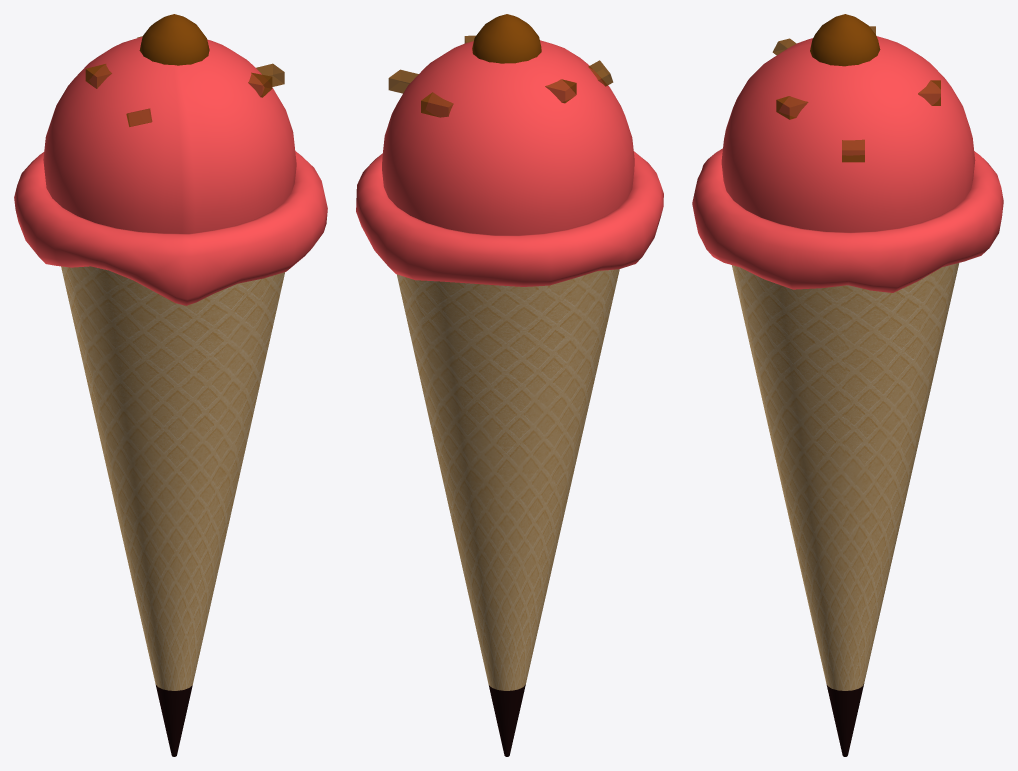
File: 1773580872_cus.glb
3 views of the same model, side by side, from view 1: azimuth 30°, elevation 25°; view 2: azimuth 150°, elevation 25°; view 3: azimuth 270°, elevation 25° (orthographic).
Parts seen in each view (by area): view 1: Sphere001_03 - Default_0, Cone001, Sphere002; view 2: Sphere001_03 - Default_0, Cone001, Sphere002, Box001; view 3: Sphere001_03 - Default_0, Cone001, Sphere002, Box002.
Boxes of the visible parts, x1,y1,x2,y2 form: Sphere001_03 - Default_0: (14, 37, 327, 305); Cone001: (61, 266, 284, 756); Sphere002: (139, 14, 209, 65); Sphere001_03 - Default_0: (356, 40, 663, 286); Cone001: (397, 269, 619, 756); Sphere002: (472, 14, 541, 63); Box001: (421, 92, 453, 117); Sphere001_03 - Default_0: (692, 36, 1003, 292); Cone001: (732, 263, 959, 756); Sphere002: (810, 14, 880, 66); Box002: (842, 139, 864, 162).
Bounding box in the file's own units: 43.4 × 114 × 43.3.
5 materials, 1 textured.
